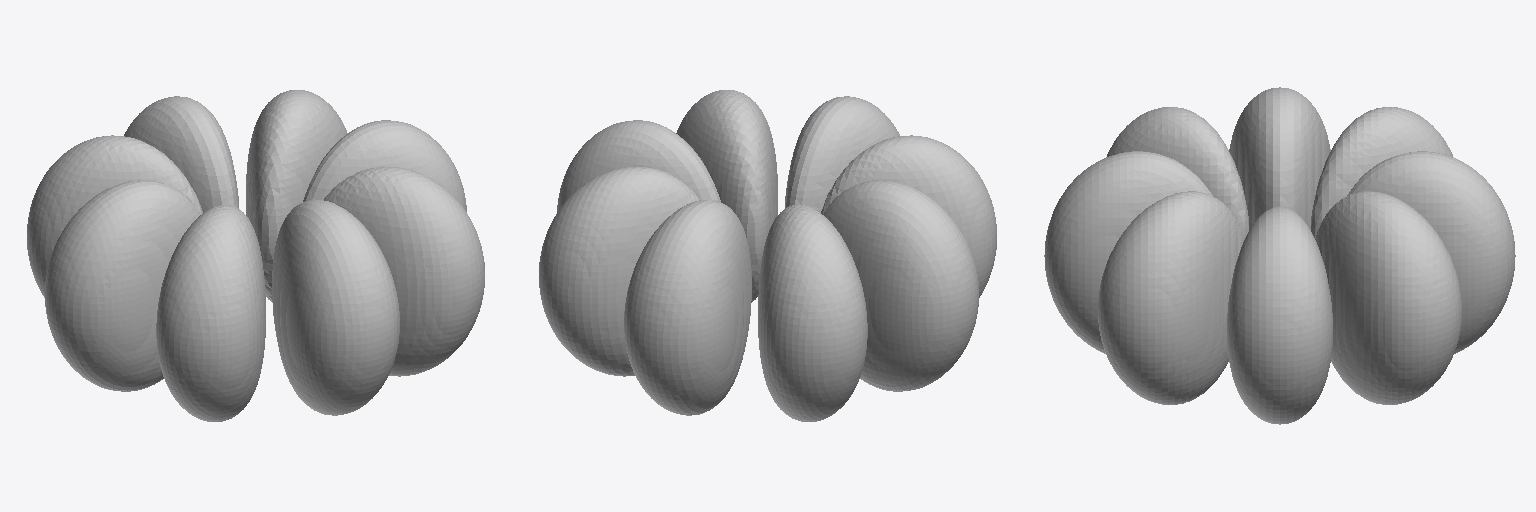
File: orb_n=5_ l=4 _m=4.obj
The picture shows the model from 3 angles: view 1: azimuth 30°, elevation 25°; view 2: azimuth 150°, elevation 25°; view 3: azimuth 270°, elevation 25°; orthographic projection.
Parts seen in each view (by area): view 1: orb_n=5__l=4__m=4; view 2: orb_n=5__l=4__m=4; view 3: orb_n=5__l=4__m=4.
Boxes of the visible parts, x1,y1,x2,y2 form: orb_n=5__l=4__m=4: [27, 90, 484, 421]; orb_n=5__l=4__m=4: [539, 90, 996, 421]; orb_n=5__l=4__m=4: [1044, 87, 1515, 424].
Bounding box in the file's own units: 99.13 × 47.38 × 99.13.